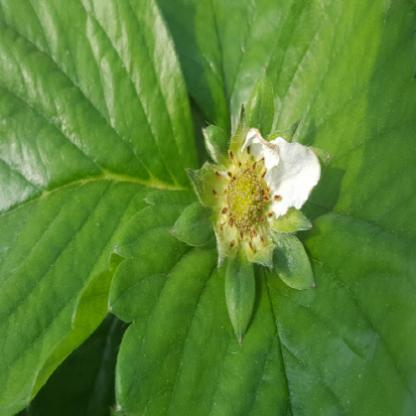Strawberry_Blossom_Blight: (209, 140, 286, 255)
